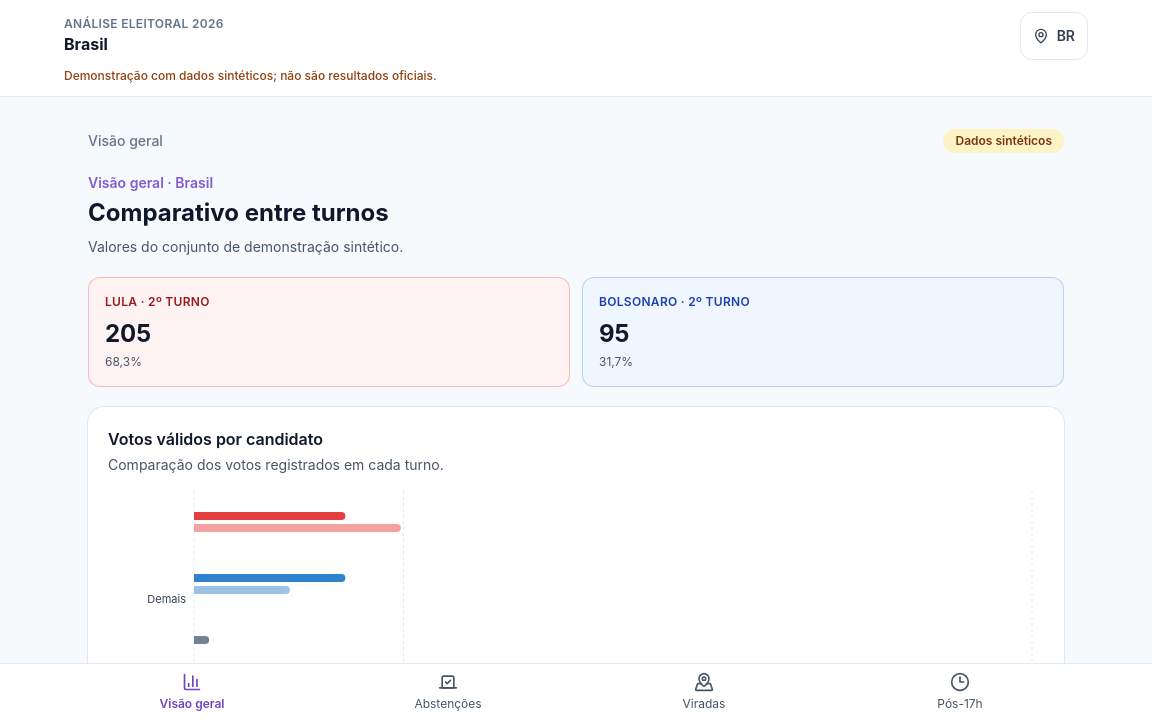
Test: election dashboard › rejects a state response whose UF does not match the requested file
The width and height of the screenshot is (1152, 720).
Expected: the heading "Comparativo entre turnos" is shown, [88,198,389,227]
Click the button with aria-label "Selecionar estado".
click(1054, 36)  # box [1020,12,1088,60]
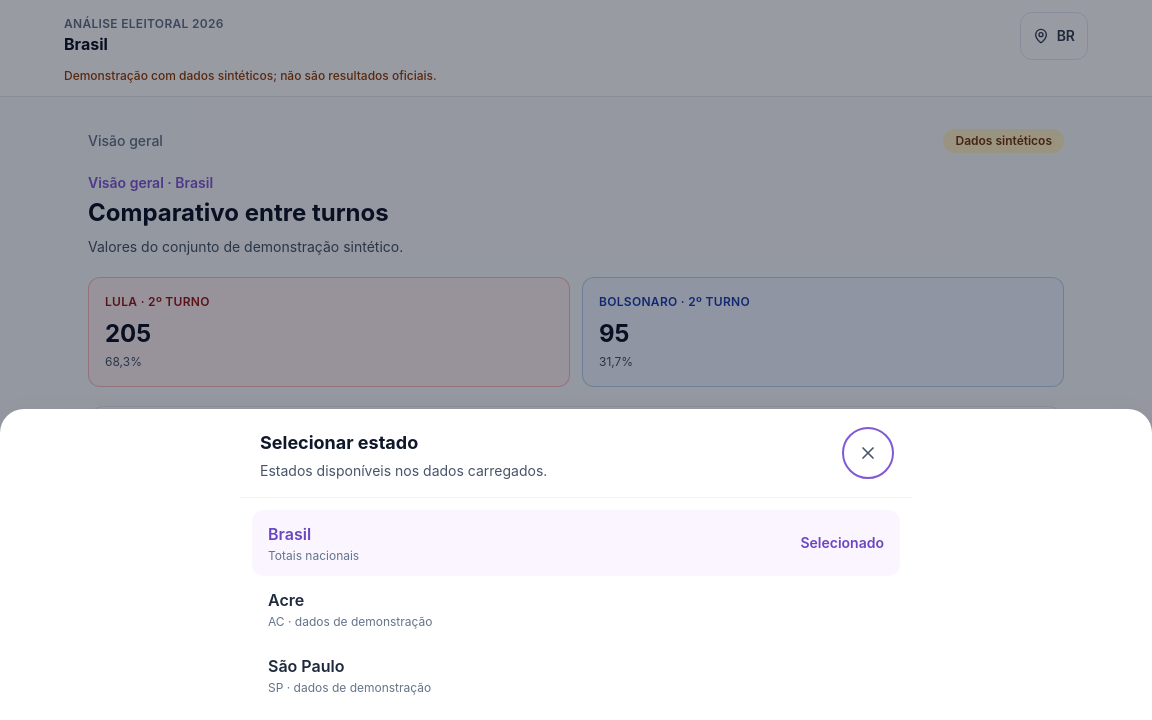
Click the button "São Paulo SP · dados de demonstração".
click(306, 666)  # box [252,642,900,708]
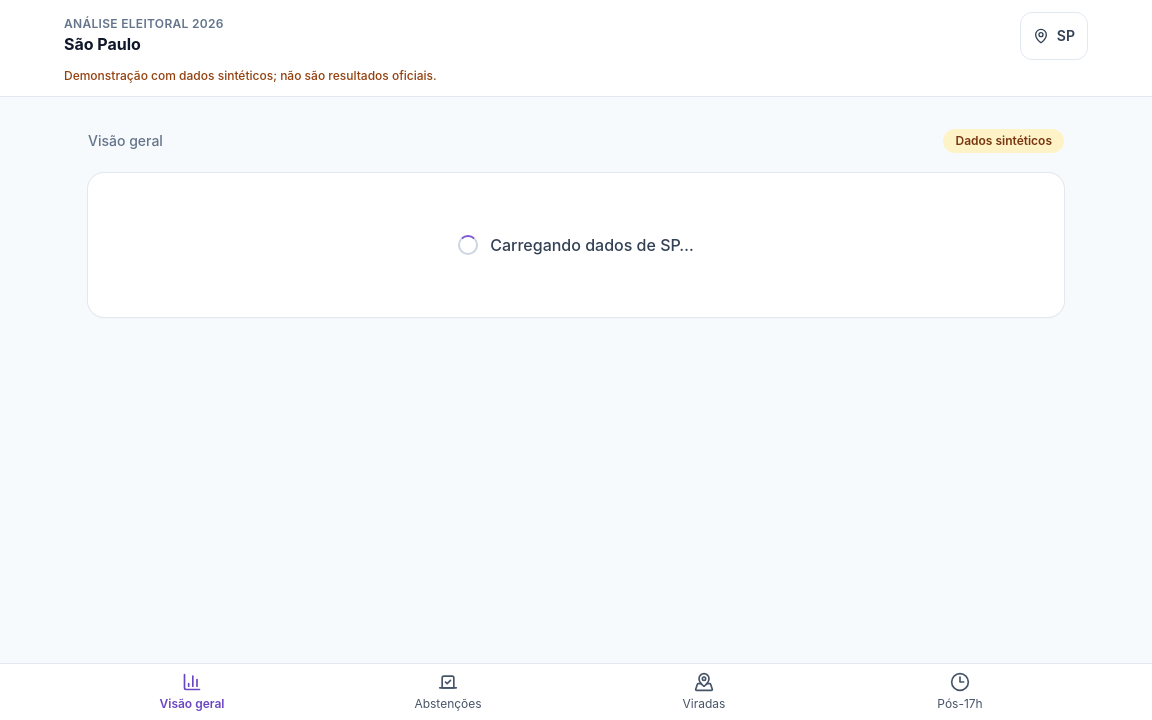
Click the button "Viradas".
click(704, 692)  # box [576,664,832,719]
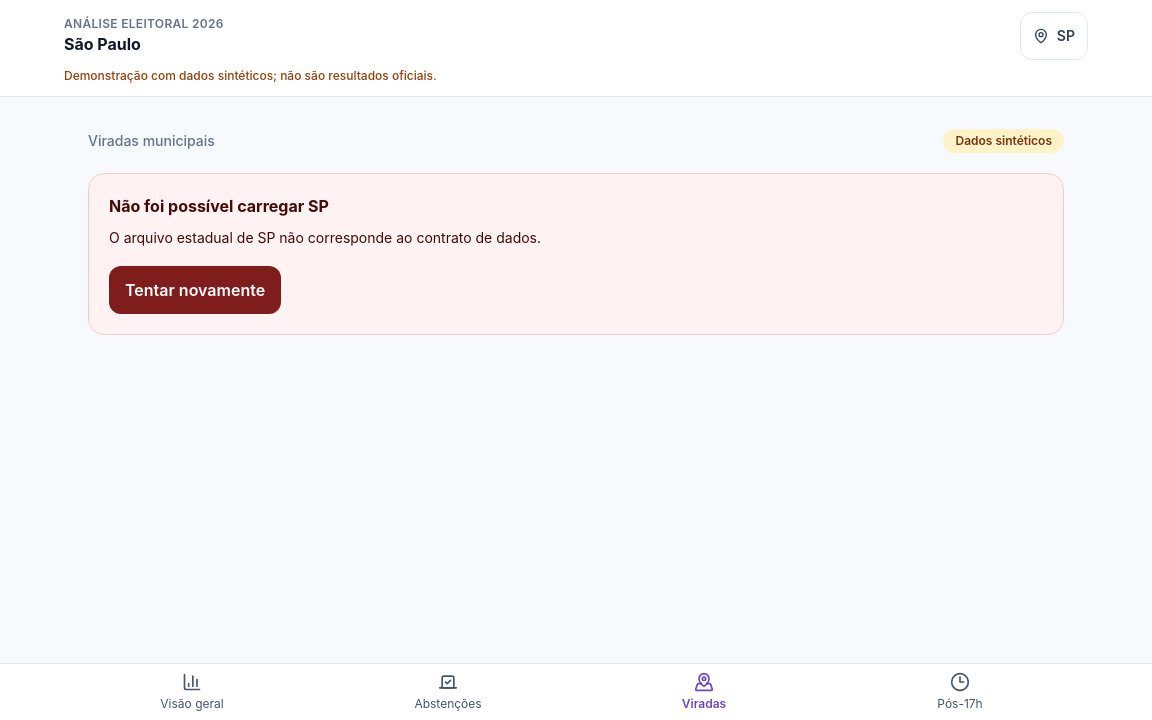
Result: the heading "Não foi possível carregar SP" is shown at [109,196,329,216]
Result: the text "O arquivo estadual de SP não corresponde ao contrato de dados." is shown at [109,229,541,246]
